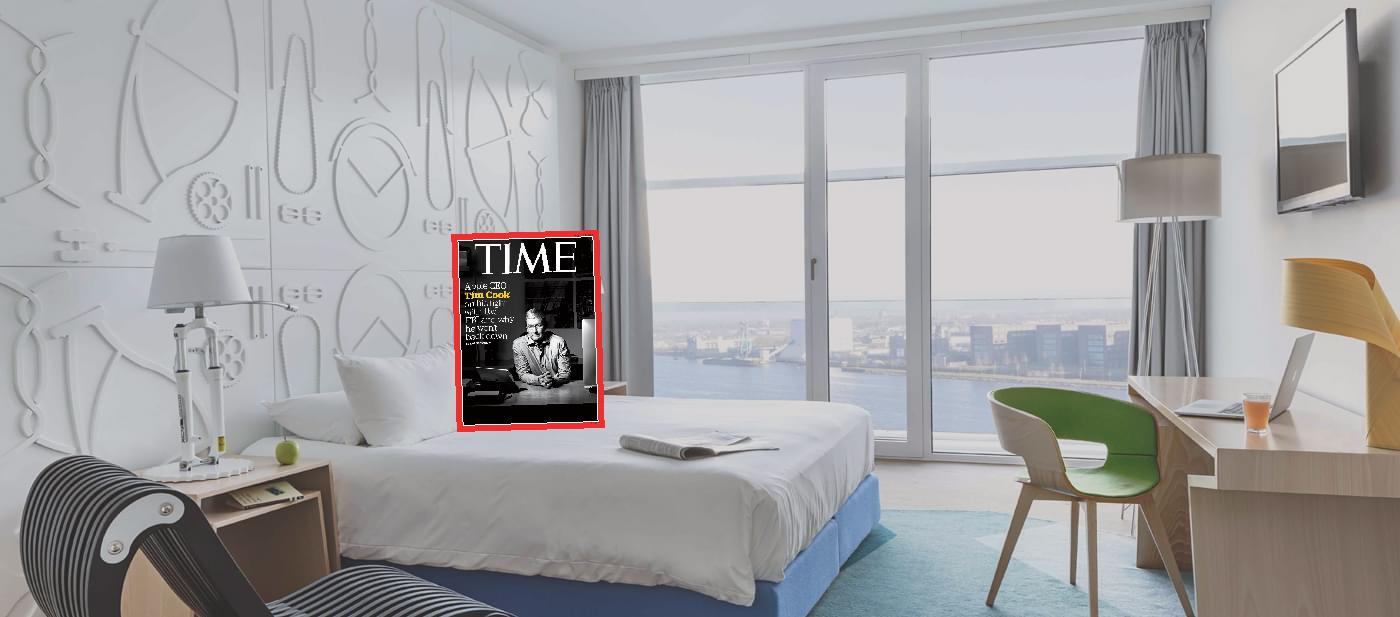times: (450, 225, 604, 435)
